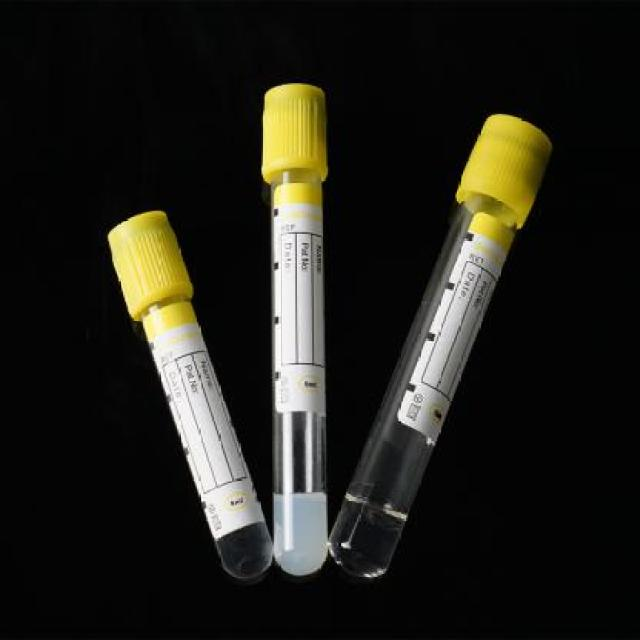Experimental-tube: (333, 113, 552, 582), (106, 211, 276, 583), (262, 82, 331, 575)
